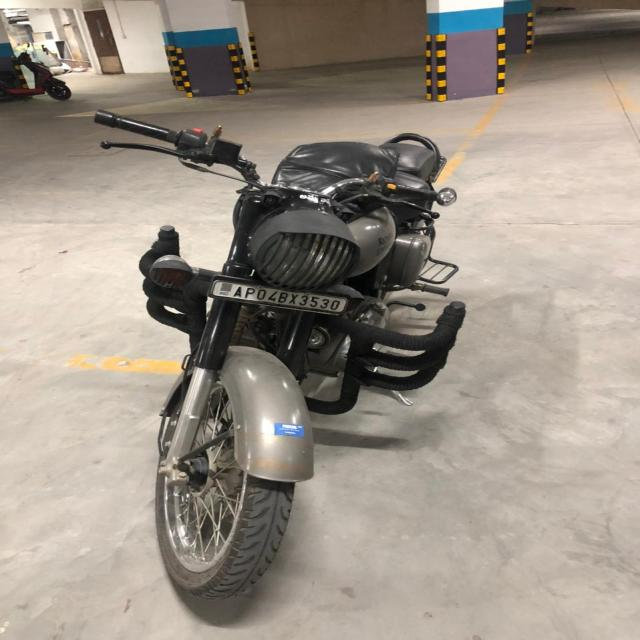license_plate: (208, 278, 349, 316)
